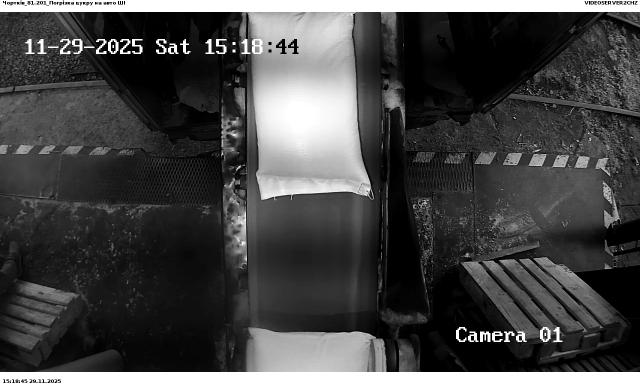bag: (249, 12, 373, 200), (248, 328, 374, 372)
